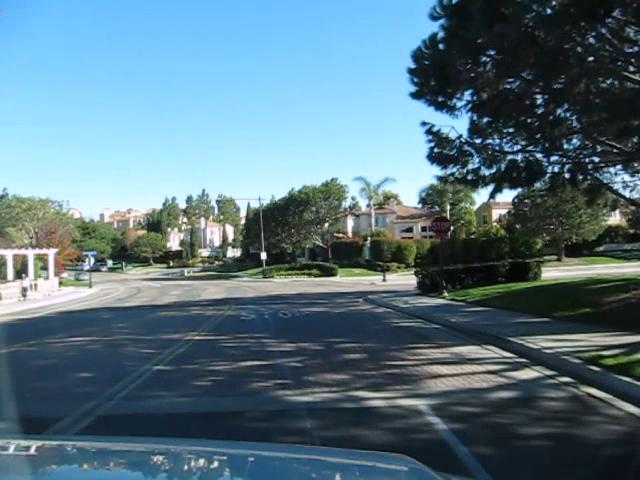stop: (429, 214, 452, 238)
